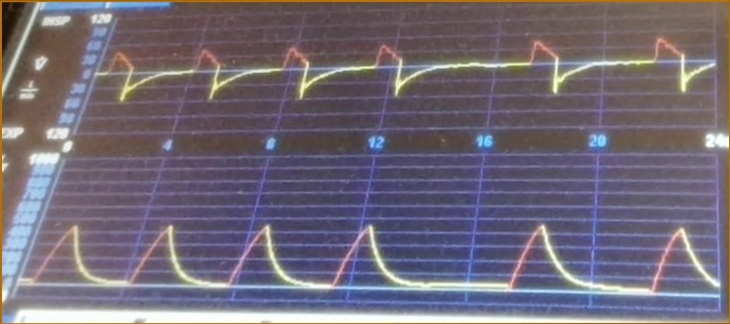Accumulation Flow: (110, 30, 711, 127)
Volume: (46, 209, 716, 310)
